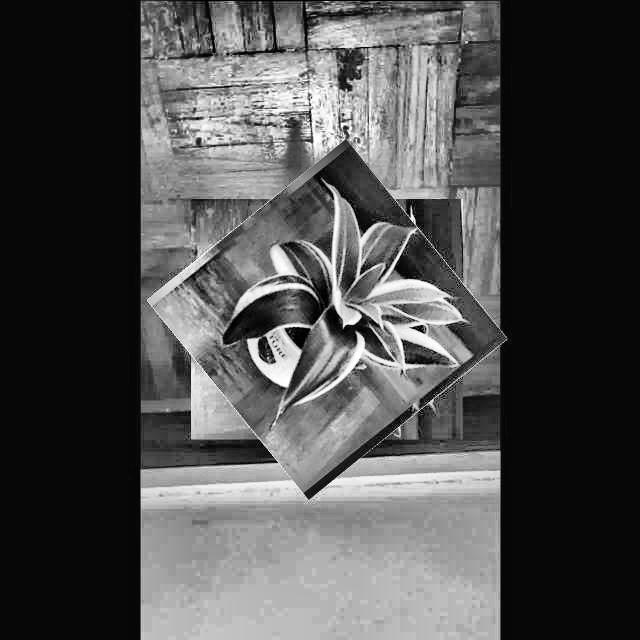plants: (172, 164, 481, 473)
